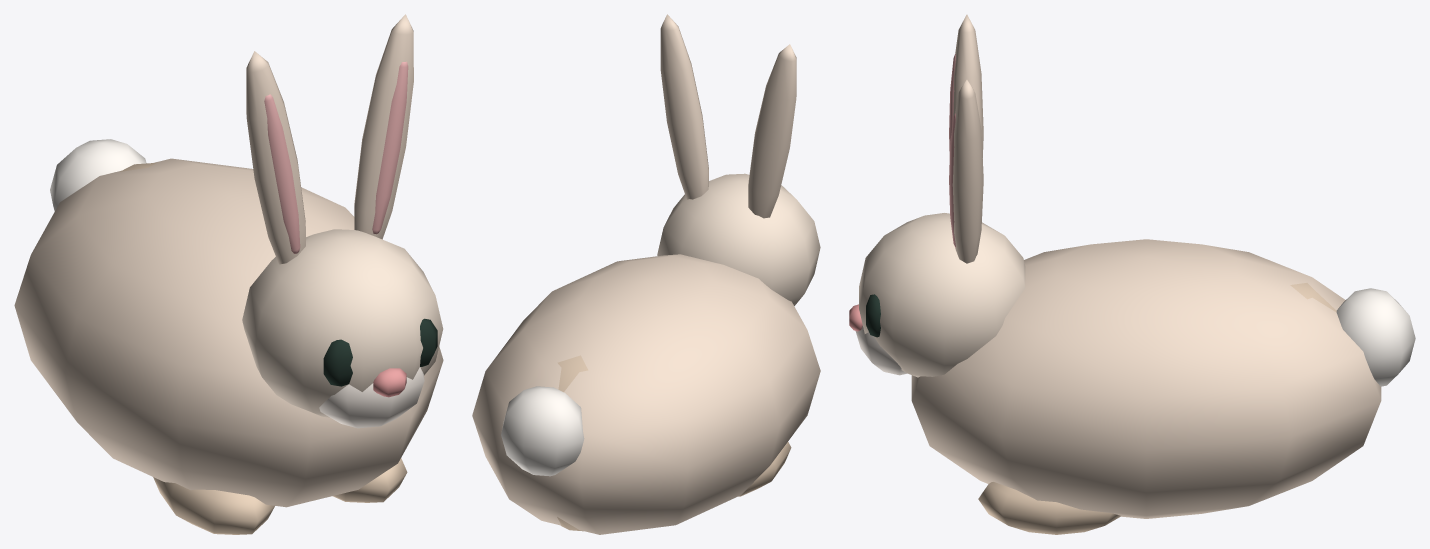
Rendered from rabbit.glb.
The picture shows the model from 3 angles, left to right: view 1: azimuth 30°, elevation 25°; view 2: azimuth 150°, elevation 25°; view 3: azimuth 270°, elevation 25°; orthographic projection. The views are drawn at different scales.
Visible parts, largest first — view 1: Torso, Skull, EarMesh (×2), LegMesh (×2), EarInner (×2), Tail, Cheek, Eye (×2), Nose; view 2: Torso, Skull, EarMesh (×2), Tail, Haunch, LegMesh; view 3: Torso, Skull, EarMesh (×2), Tail, LegMesh, Cheek.
Part boxes in pixels (left/top/right/bottom): Torso: left=14, top=158, right=443, bottom=507; Skull: left=242, top=229, right=443, bottom=417; EarMesh (×2): left=246, top=14, right=413, bottom=264; LegMesh (×2): left=153, top=458, right=407, bottom=534; EarInner (×2): left=264, top=61, right=408, bottom=253; Tail: left=50, top=139, right=146, bottom=211; Cheek: left=319, top=367, right=424, bottom=428; Eye (×2): left=323, top=318, right=437, bottom=386; Nose: left=373, top=368, right=406, bottom=397; Torso: left=472, top=254, right=820, bottom=534; Skull: left=657, top=173, right=820, bottom=305; EarMesh (×2): left=660, top=14, right=796, bottom=218; Tail: left=501, top=386, right=584, bottom=476; Haunch: left=557, top=355, right=588, bottom=531; LegMesh: left=738, top=442, right=791, bottom=496; Torso: left=911, top=239, right=1381, bottom=518; Skull: left=859, top=213, right=1025, bottom=377; EarMesh (×2): left=952, top=14, right=983, bottom=263; Tail: left=1336, top=288, right=1415, bottom=386; LegMesh: left=978, top=482, right=1121, bottom=534; Cheek: left=855, top=326, right=906, bottom=375.
Bounding box in the file's own units: 0.3 × 0.4469 × 0.5049.
